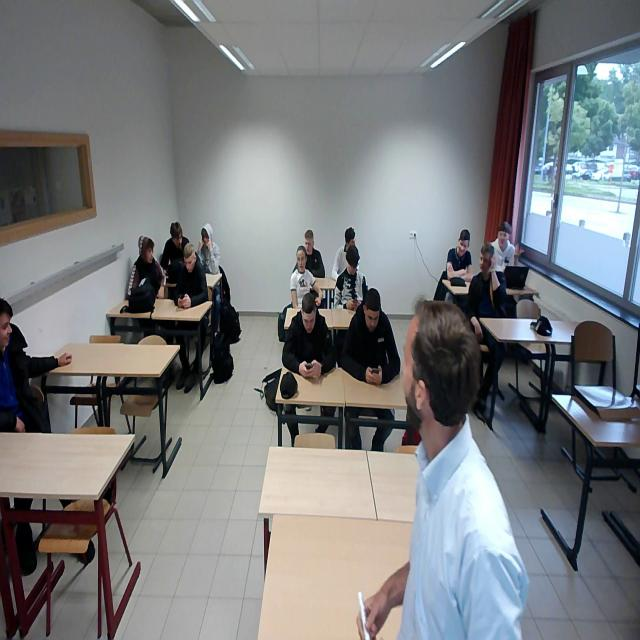Phone Use: (346, 286, 400, 384), (284, 296, 335, 378), (334, 247, 371, 313), (175, 242, 208, 310)
